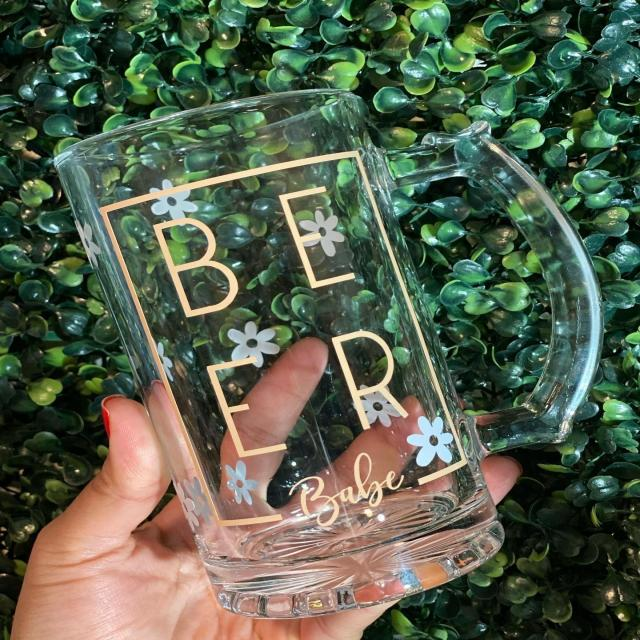glass-mug: (31, 82, 606, 625)
